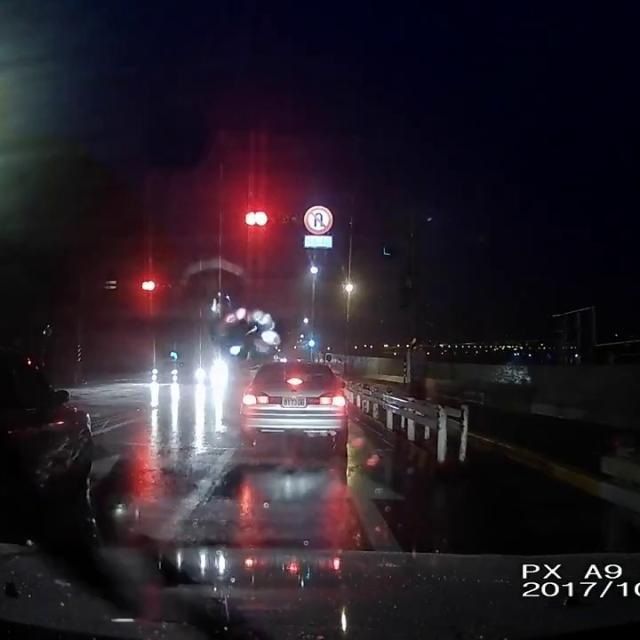Car: (0, 331, 94, 530), (236, 359, 347, 453)
